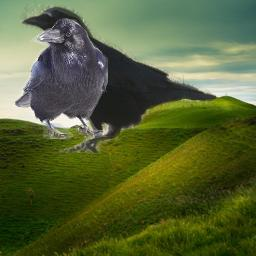Crow: (16, 2, 216, 153), (13, 17, 108, 139)
